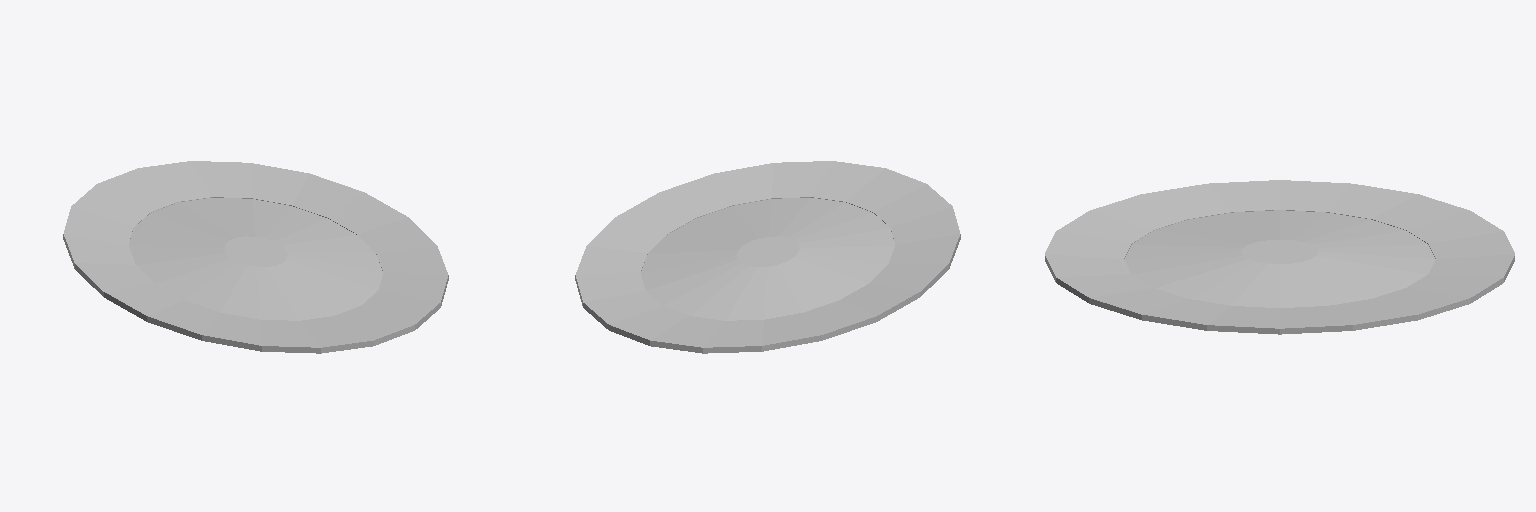
The model's file is lcircle.obj.
The picture shows the model from 3 angles: view 1: azimuth 30°, elevation 25°; view 2: azimuth 150°, elevation 25°; view 3: azimuth 270°, elevation 25°; orthographic projection.
Visible parts, largest first — view 1: Cylinder001; view 2: Cylinder001; view 3: Cylinder001.
Boxes of the visible parts, x1=… form: Cylinder001: x1=63, y1=161, x2=448, y2=353; Cylinder001: x1=575, y1=161, x2=960, y2=353; Cylinder001: x1=1045, y1=180, x2=1514, y2=334.
Bounding box in the file's own units: 340 × 8.9 × 455.